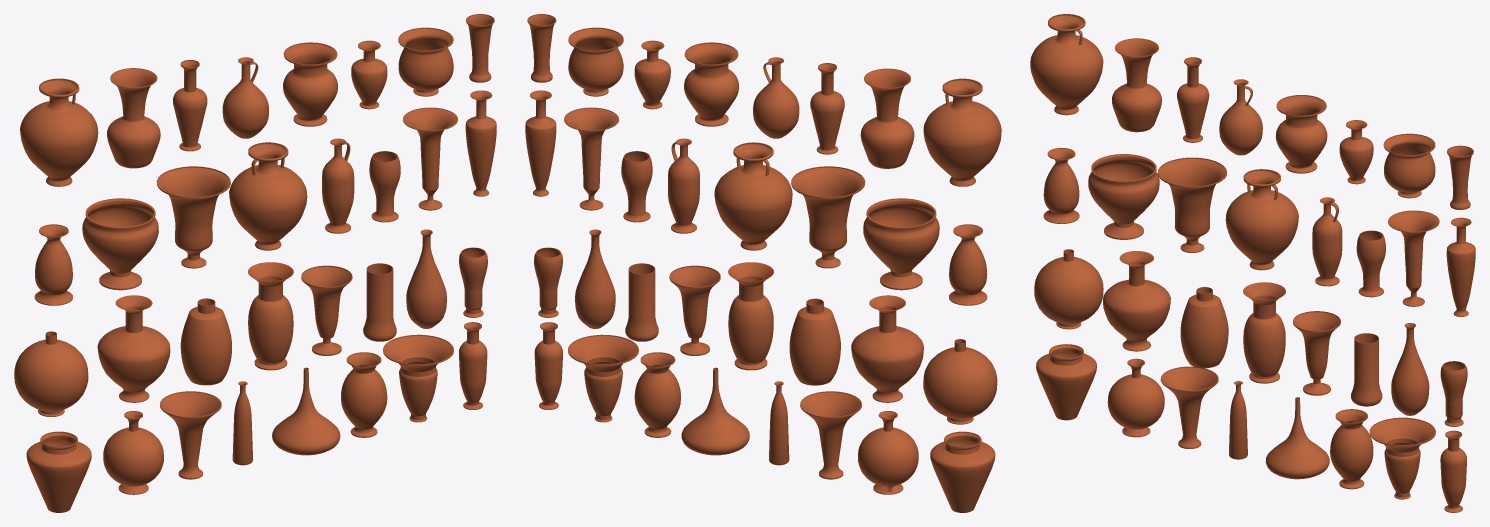
File: vase_designs_fbx.fbx
3 renders of one model, left to right at view 1: azimuth 30°, elevation 25°; view 2: azimuth 150°, elevation 25°; view 3: azimuth 330°, elevation 25°, orthographic. The views are drawn at different scales.
Parts seen in each view (by area): view 1: SM_Vase 17, SM_Vase 8, SM_Vase 20, SM_Vase 12, SM_Vase 1, SM_Vase 19, SM_Vase 27, SM_Vase 10, SM_Vase 32, SM_Vase 14, SM_Vase 23, SM_Vase 7 (+20 smaller); view 2: SM_Vase 17, SM_Vase 8, SM_Vase 20, SM_Vase 12, SM_Vase 1, SM_Vase 19, SM_Vase 27, SM_Vase 10, SM_Vase 32, SM_Vase 14, SM_Vase 23, SM_Vase 7 (+20 smaller); view 3: SM_Vase 17, SM_Vase 8, SM_Vase 20, SM_Vase 12, SM_Vase 1, SM_Vase 19, SM_Vase 27, SM_Vase 10, SM_Vase 32, SM_Vase 14, SM_Vase 23, SM_Vase 7 (+20 smaller).
Part boxes in pixels (x1,y1,x2,y2): SM_Vase 17: [229, 142, 307, 250]; SM_Vase 8: [20, 78, 98, 186]; SM_Vase 20: [82, 198, 158, 290]; SM_Vase 12: [97, 295, 170, 402]; SM_Vase 1: [14, 331, 88, 416]; SM_Vase 19: [156, 166, 230, 268]; SM_Vase 27: [248, 262, 293, 370]; SM_Vase 10: [107, 68, 160, 168]; SM_Vase 32: [26, 431, 91, 512]; SM_Vase 14: [283, 42, 337, 126]; SM_Vase 23: [180, 298, 231, 385]; SM_Vase 7: [383, 334, 453, 422]; SM_Vase 17: [714, 142, 792, 250]; SM_Vase 8: [923, 78, 1001, 186]; SM_Vase 20: [863, 198, 939, 290]; SM_Vase 12: [851, 295, 923, 402]; SM_Vase 1: [923, 339, 997, 424]; SM_Vase 19: [791, 166, 865, 268]; SM_Vase 27: [728, 262, 773, 370]; SM_Vase 10: [860, 68, 914, 168]; SM_Vase 32: [930, 431, 995, 512]; SM_Vase 14: [684, 42, 738, 126]; SM_Vase 23: [789, 298, 840, 385]; SM_Vase 7: [568, 334, 638, 422]; SM_Vase 17: [1225, 169, 1298, 270]; SM_Vase 8: [1030, 14, 1103, 115]; SM_Vase 20: [1088, 154, 1159, 239]; SM_Vase 12: [1103, 251, 1170, 351]; SM_Vase 1: [1034, 249, 1103, 329]; SM_Vase 19: [1157, 157, 1226, 252]; SM_Vase 27: [1243, 282, 1285, 383]; SM_Vase 10: [1112, 38, 1161, 132]; SM_Vase 32: [1036, 344, 1096, 420]; SM_Vase 14: [1275, 95, 1327, 173]; SM_Vase 23: [1180, 287, 1228, 368]; SM_Vase 7: [1369, 417, 1435, 499].
Bounding box in the file's own units: 2029 × 1735 × 324.
